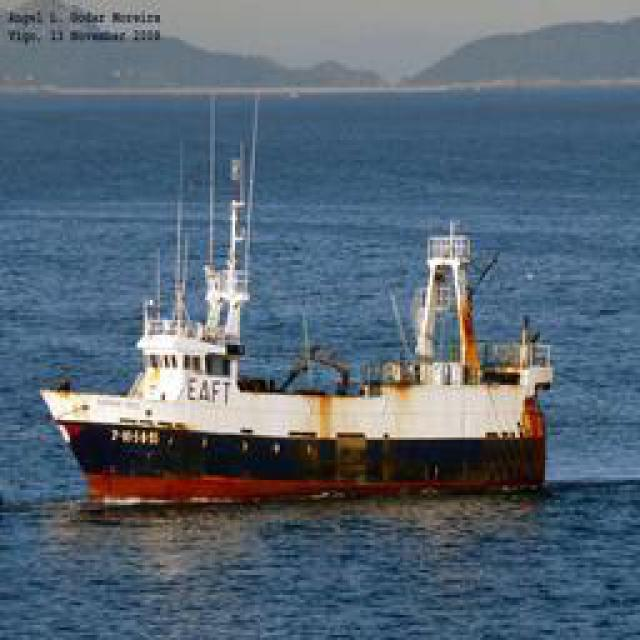Ship: (41, 120, 551, 500)
